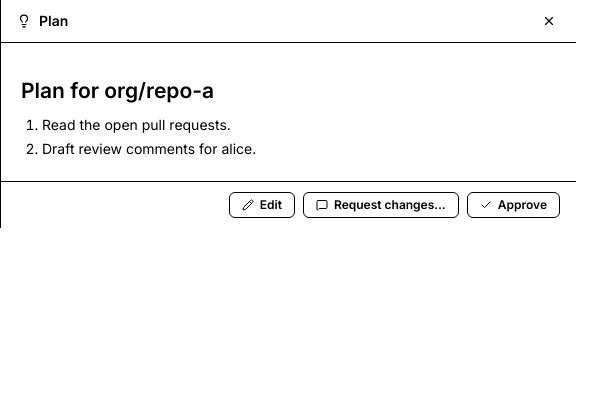
it: The plan panel's footer › sends a change request with the reason and keeps the tab open for the revised plan
Click the button "Request changes…": x=381, y=205 x1=303 y1=192 x2=459 y2=218
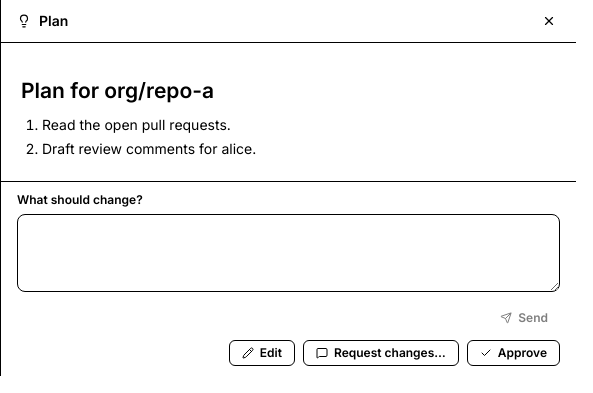
Expected: the button "Send" is disabled, x1=488 y1=304 x2=560 y2=332
In the text box labelled "What should change?": x=288, y=253 x1=17 y1=214 x2=560 y2=292, type "Skip draft pull requests"
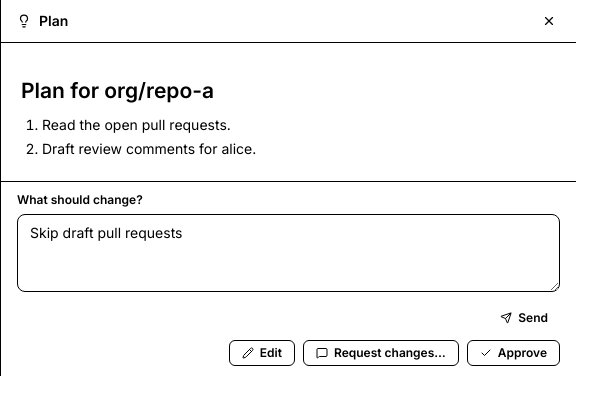
Click the button "Send": x=524, y=318 x1=488 y1=304 x2=560 y2=332
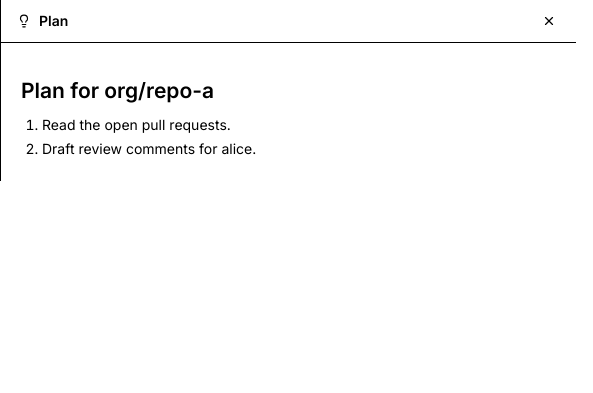
Expected: the button "Approve" is gone
Expected: the button "Request changes…" is gone
